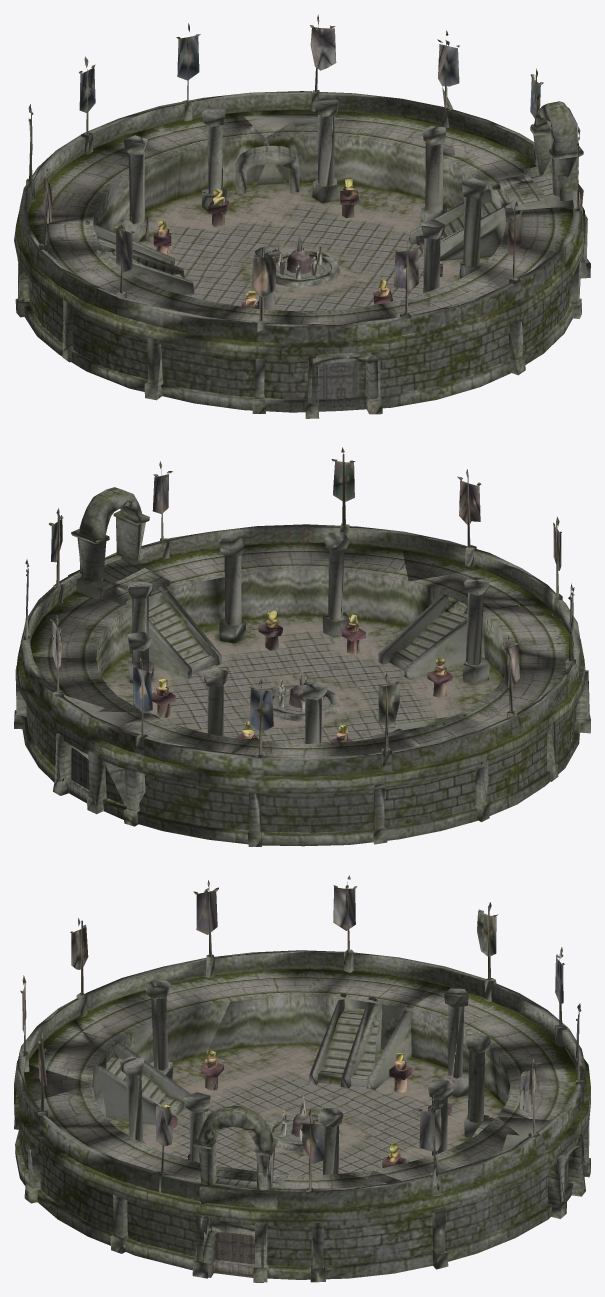
Rendered from Asterion_Courtyard_LOD0.glb.
3 renders of one model, top to bottom at view 1: azimuth 30°, elevation 25°; view 2: azimuth 150°, elevation 25°; view 3: azimuth 270°, elevation 25°, orthographic.
Parts seen in each view (by area): view 1: Mesh_0; view 2: Mesh_0; view 3: Mesh_0.
Part boxes in pixels (left/top/right/bottom): Mesh_0: left=14, top=14, right=590, bottom=418; Mesh_0: left=14, top=447, right=590, bottom=846; Mesh_0: left=14, top=875, right=590, bottom=1282.
Bounding box in the file's own units: 24.81 × 8.12 × 24.81.
Materials: 1 (1 with a texture image).
